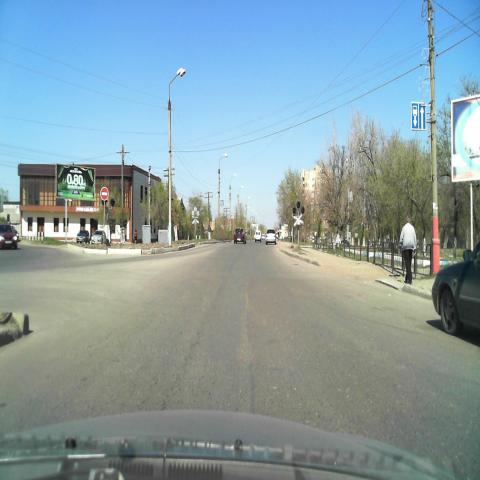5_11: (410, 101, 426, 131)
